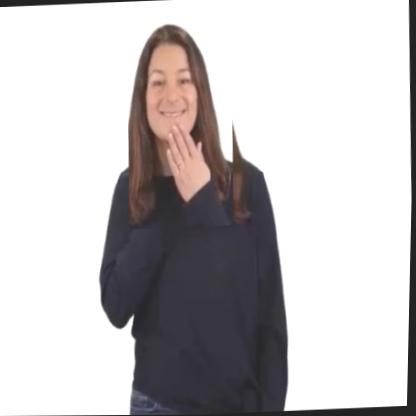ThankYou: (123, 18, 238, 230)
